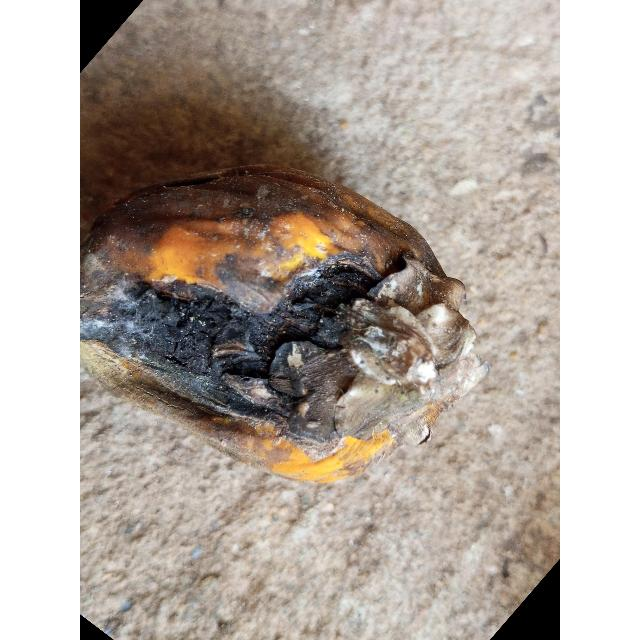damaged: (80, 162, 488, 489)
